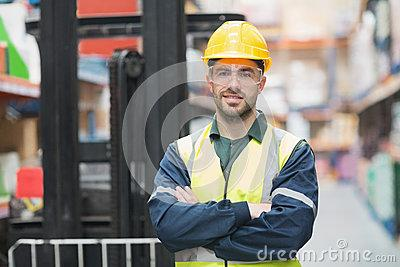helmet: (205, 22, 274, 70)
